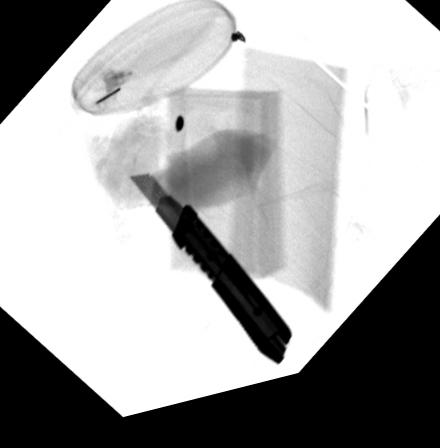Knife: (126, 179, 294, 382)
